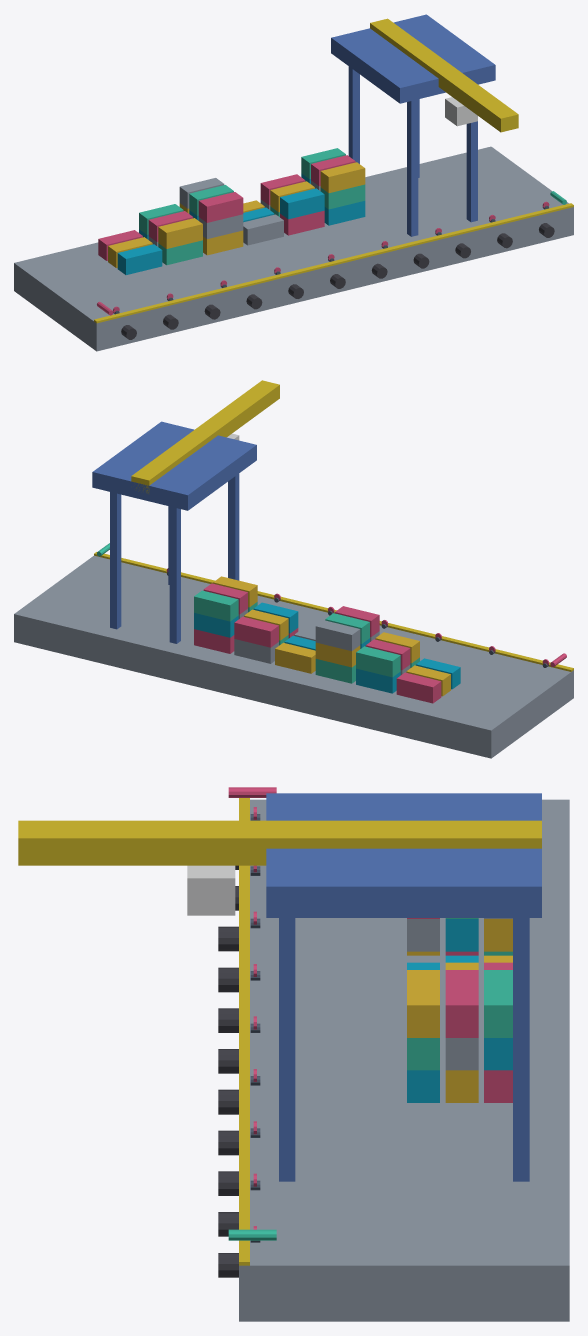
File: harbor_terminal.glb
3 views of the same model, one above another, from view 1: azimuth 30°, elevation 25°; view 2: azimuth 150°, elevation 25°; view 3: azimuth 270°, elevation 25° (orthographic). The views are drawn at different scales.
Visible parts, largest first — view 1: world; view 2: world; view 3: world.
Boxes of the visible parts, x1,y1,x2,y2 form: world: [14, 14, 573, 351]; world: [14, 380, 573, 758]; world: [18, 787, 569, 1321].
Size of the model in its own units: 80 by 30.1 by 40.
